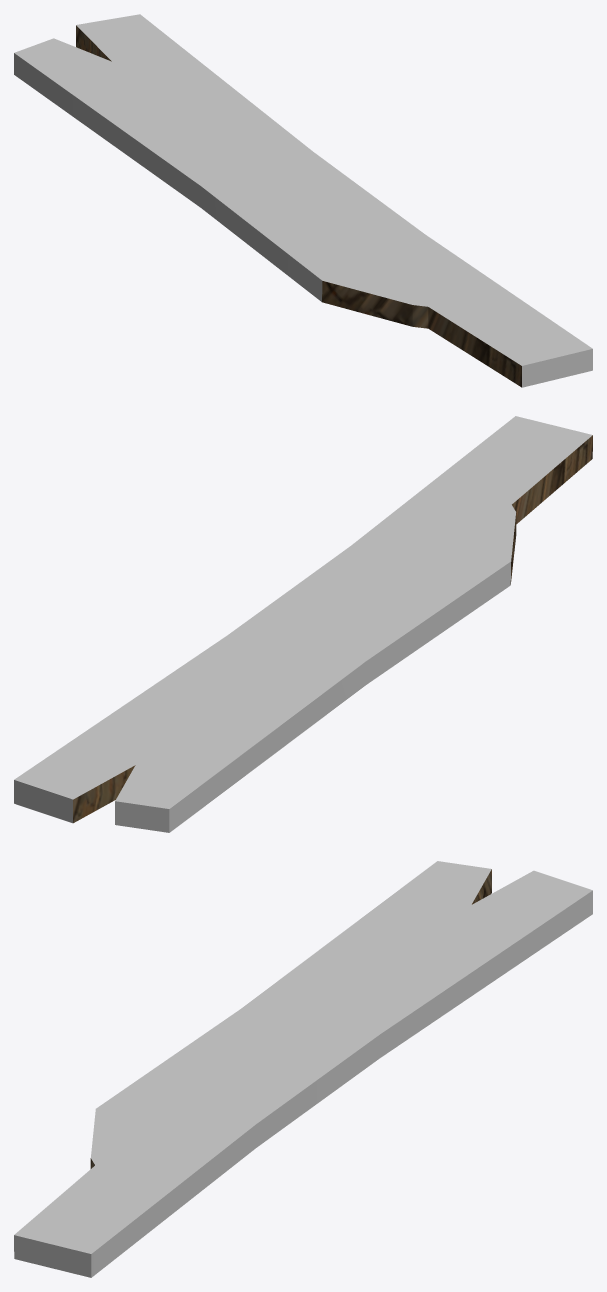
File: lower_city_wood_plank_05.fbx
The picture shows the model from 3 angles, top to bottom: view 1: azimuth 30°, elevation 25°; view 2: azimuth 150°, elevation 25°; view 3: azimuth 330°, elevation 25°; orthographic projection. The views are drawn at different scales.
Parts seen in each view (by area): view 1: lower_city_wood_plank_05; view 2: lower_city_wood_plank_05; view 3: lower_city_wood_plank_05.
Boxes of the visible parts, x1=… form: lower_city_wood_plank_05: x1=14, y1=14, x2=592, y2=387; lower_city_wood_plank_05: x1=14, y1=416, x2=592, y2=832; lower_city_wood_plank_05: x1=14, y1=861, x2=592, y2=1277.
Size of the model in its own units: 0.4698 by 0.0718 by 2.75.
